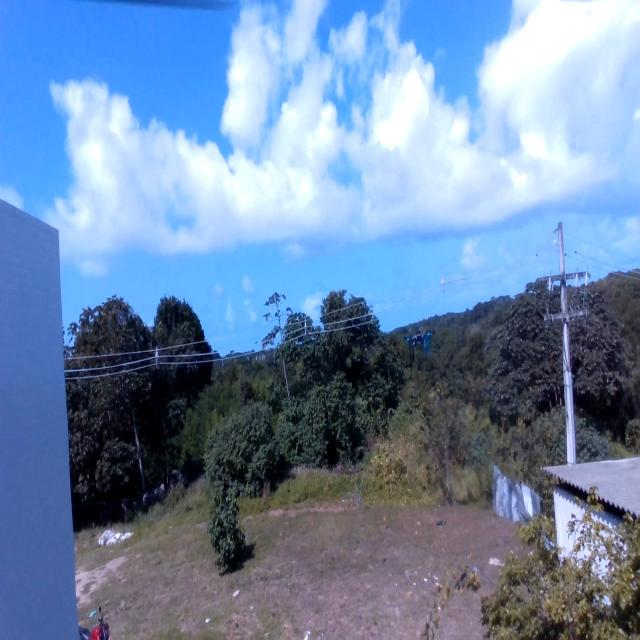-uav-: (404, 324, 433, 360)
